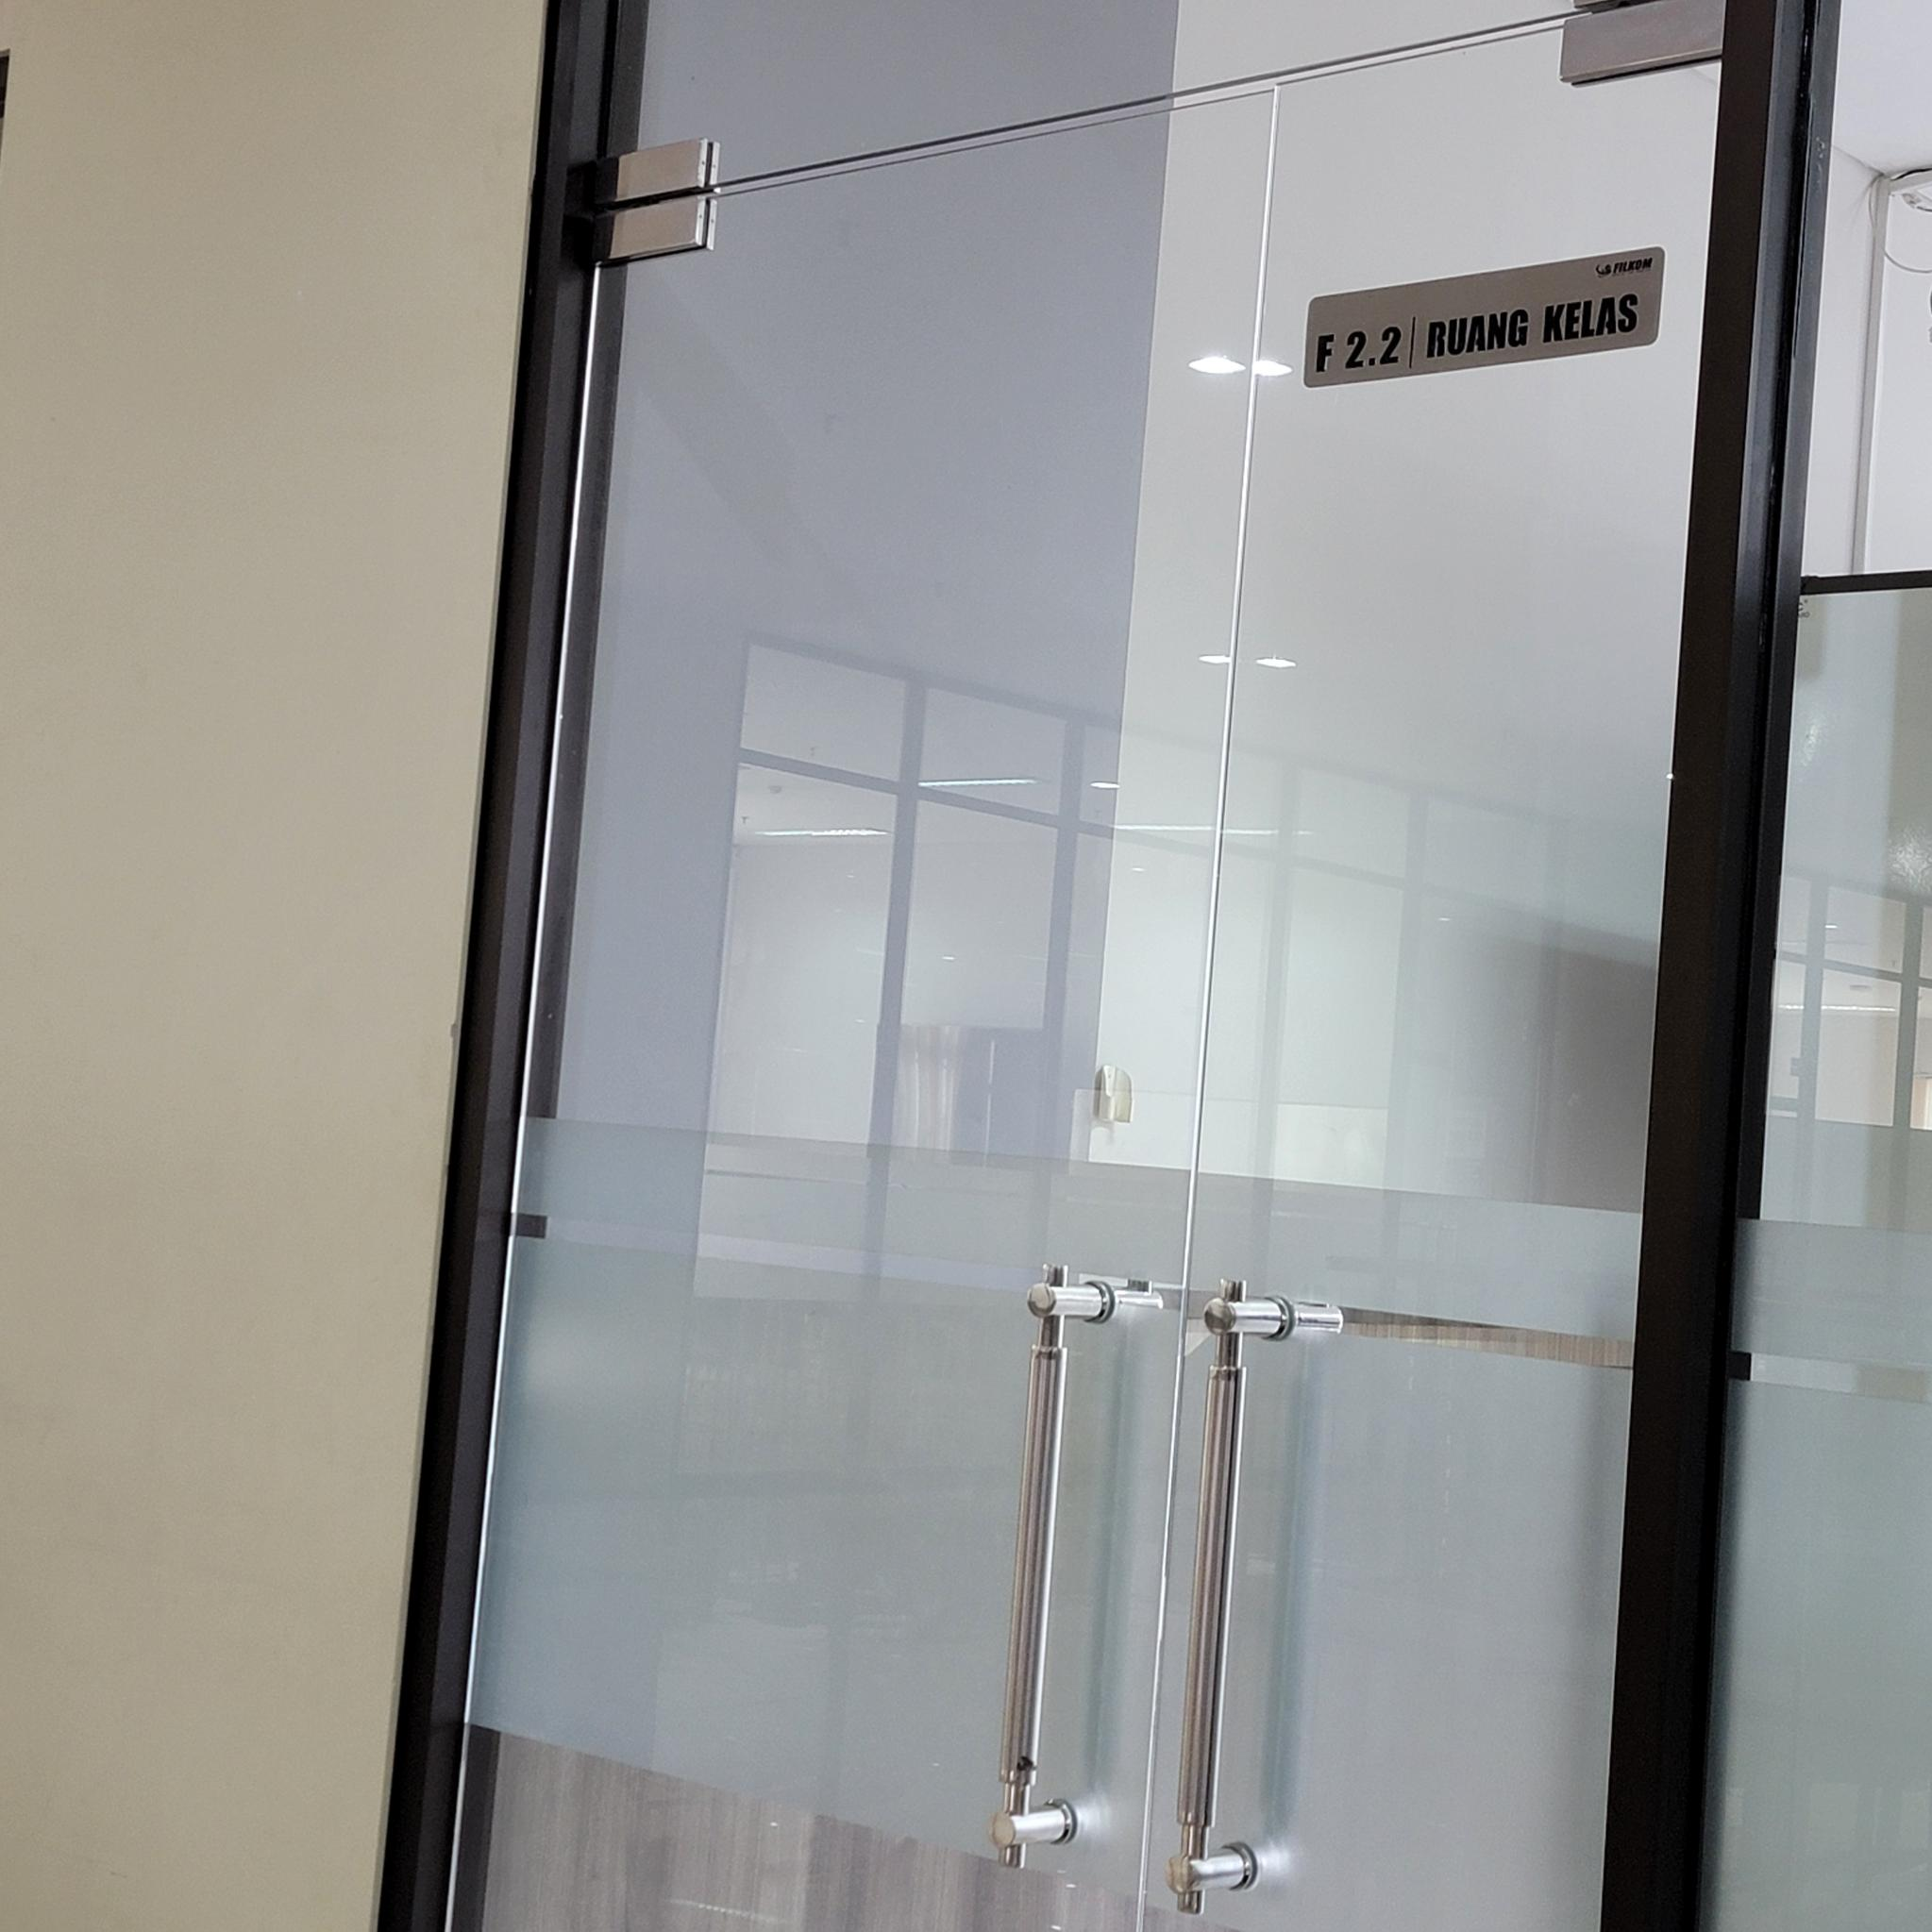plate: (1302, 246, 1665, 389)
